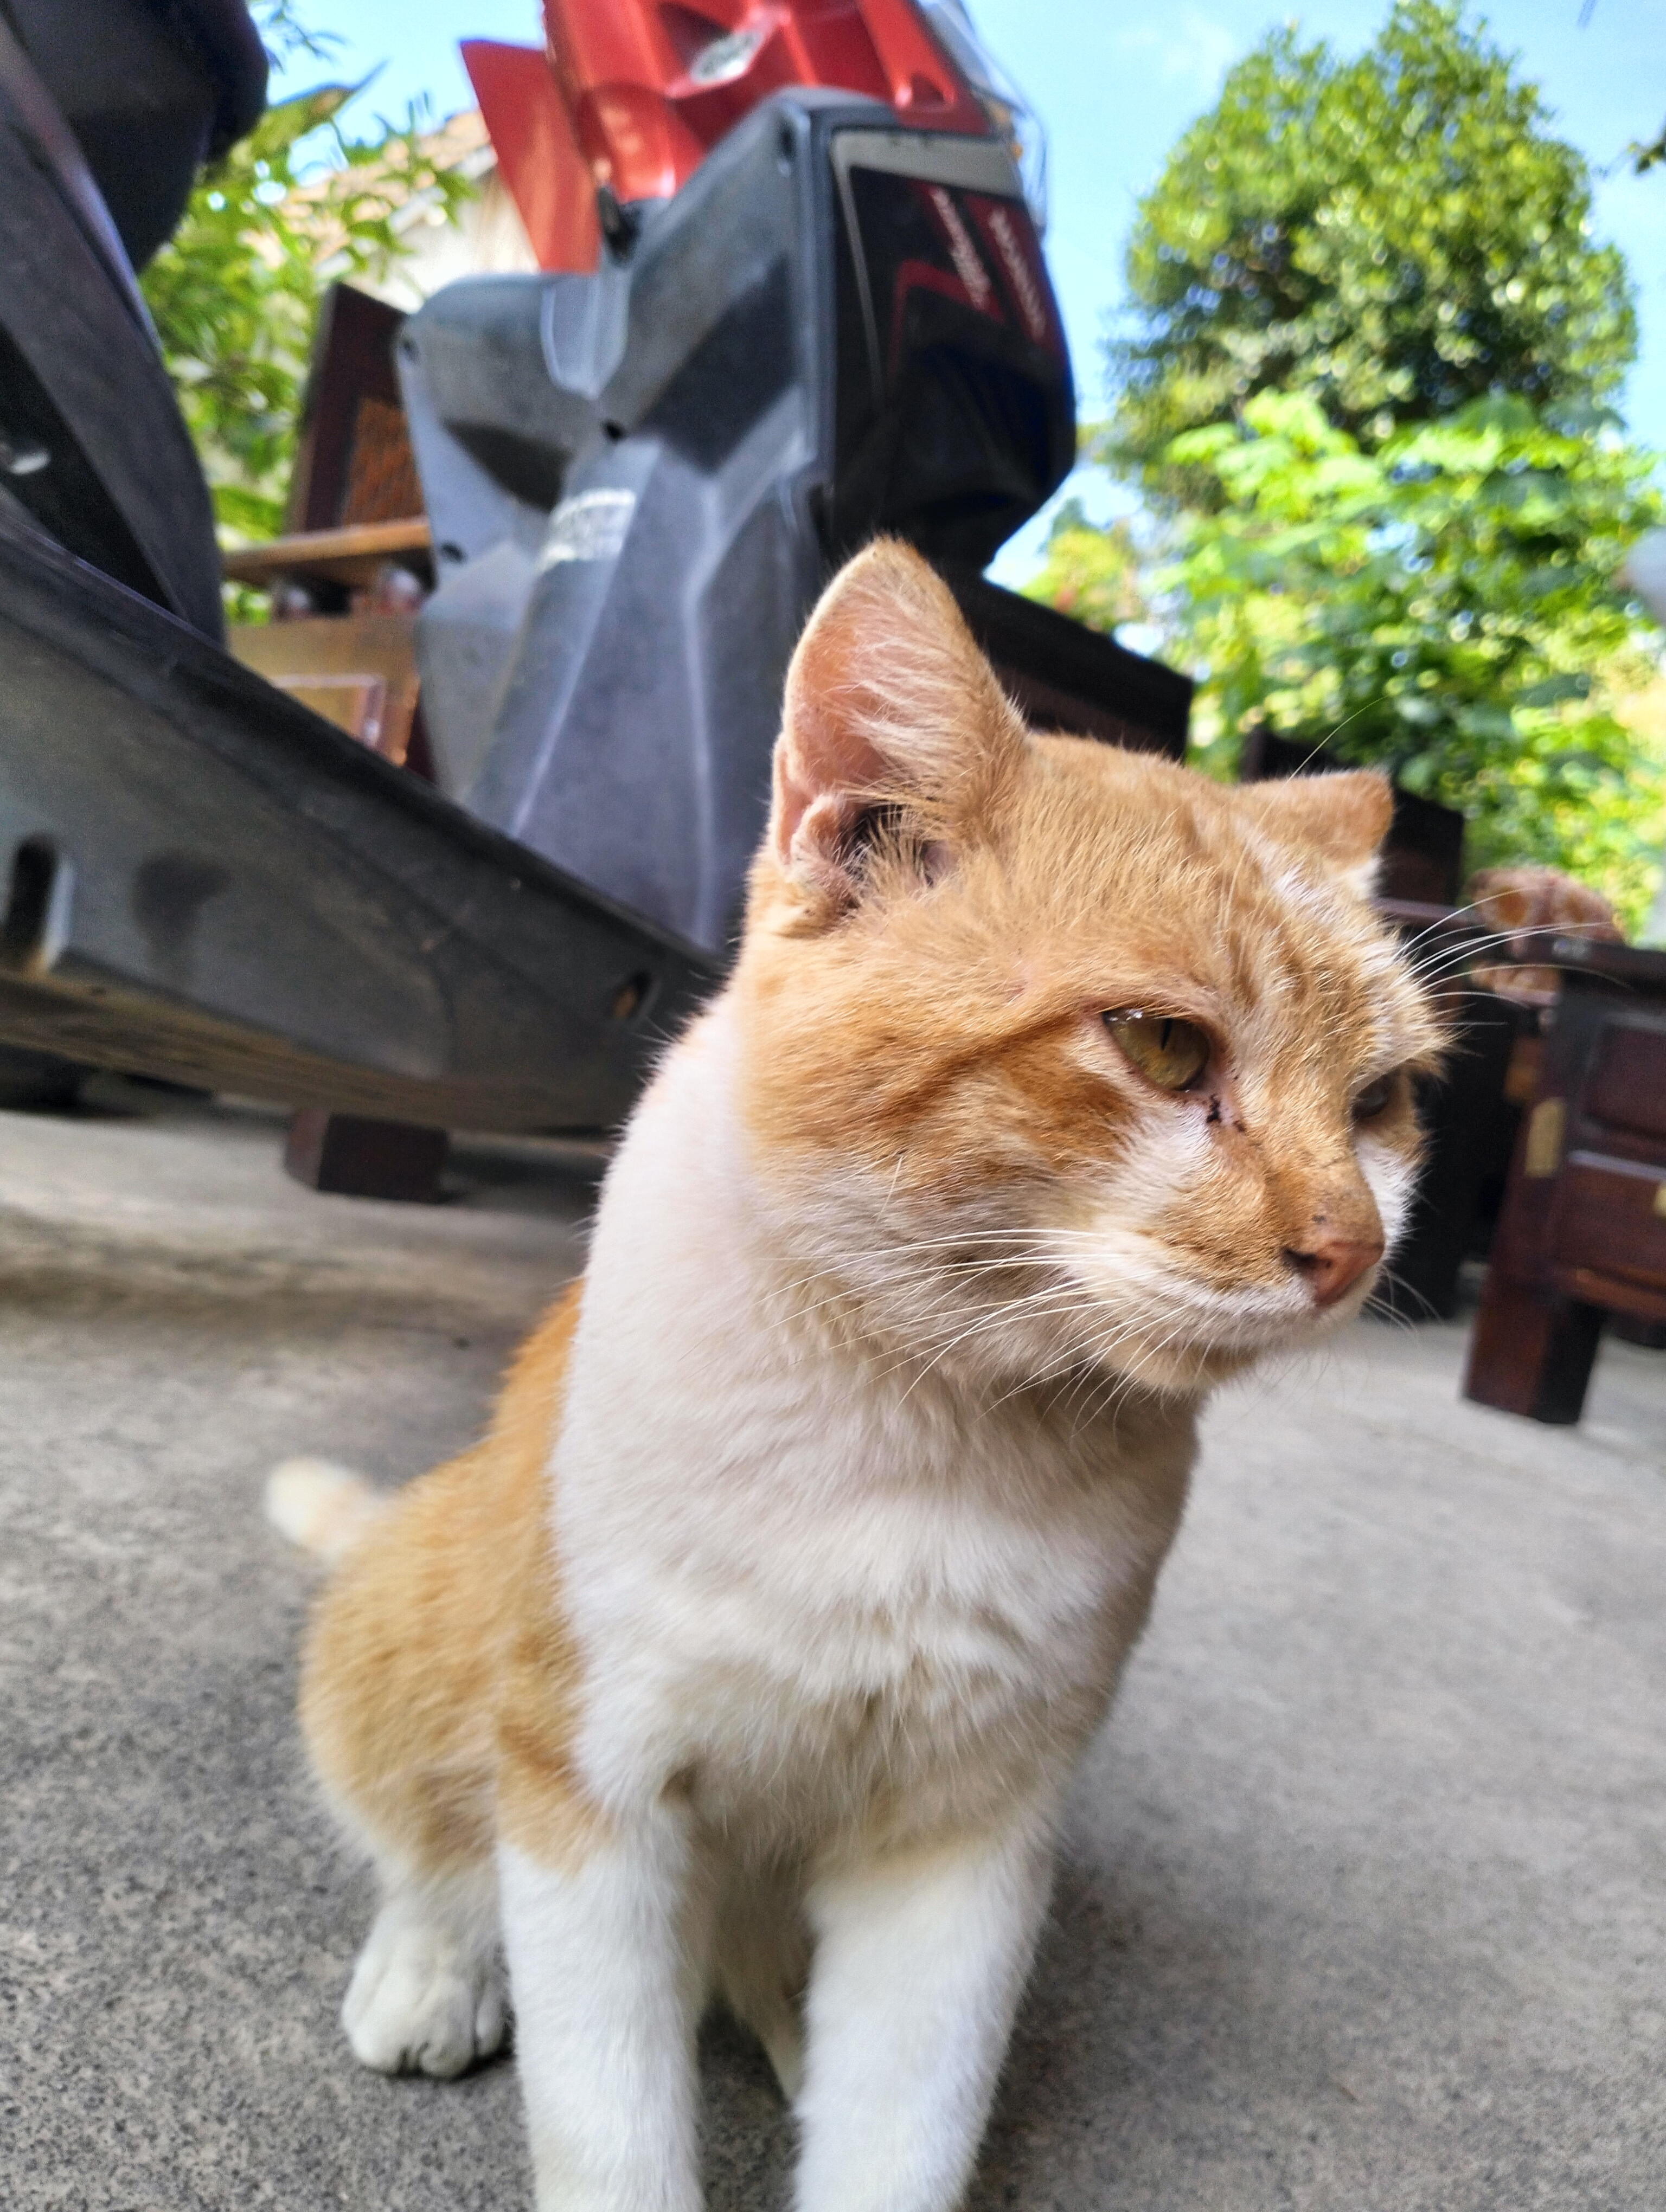oyen: (693, 518, 1580, 1534)
